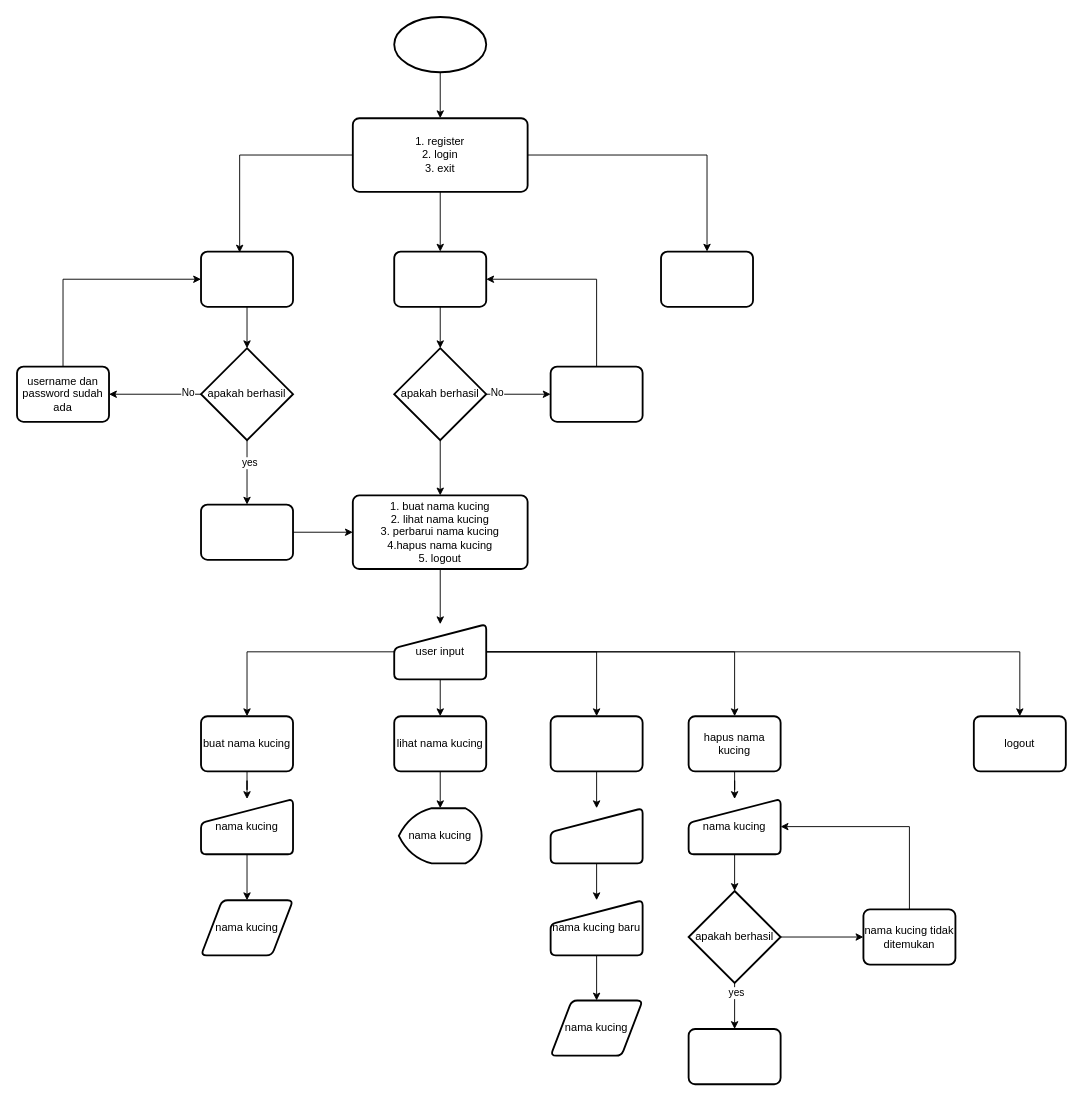
The diagram is 1082 pixels wide and 1100 high, and some of its shapes have lost their labels. The shapes that lost their labels are listed below. From the top down, each one's centre as x and y in pixels, then its label:
At (440,44): "start".
At (246,278): "register".
At (440,278): "login".
At (706,278): "exit".
At (596,393): "username dan password tidak sesuai".
At (246,531): "registrasi berhasil".
At (596,743): "perbarui nama kucing".
At (596,835): "nama kucing lama".
At (734,1056): "nama kucing berhaasil dihapus".
